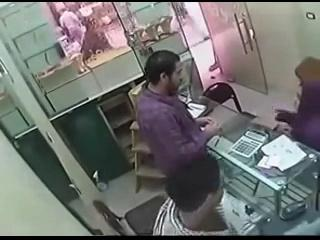Normal: (135, 50, 222, 176), (152, 158, 231, 235), (201, 82, 243, 114), (230, 128, 270, 158), (280, 201, 308, 221)
